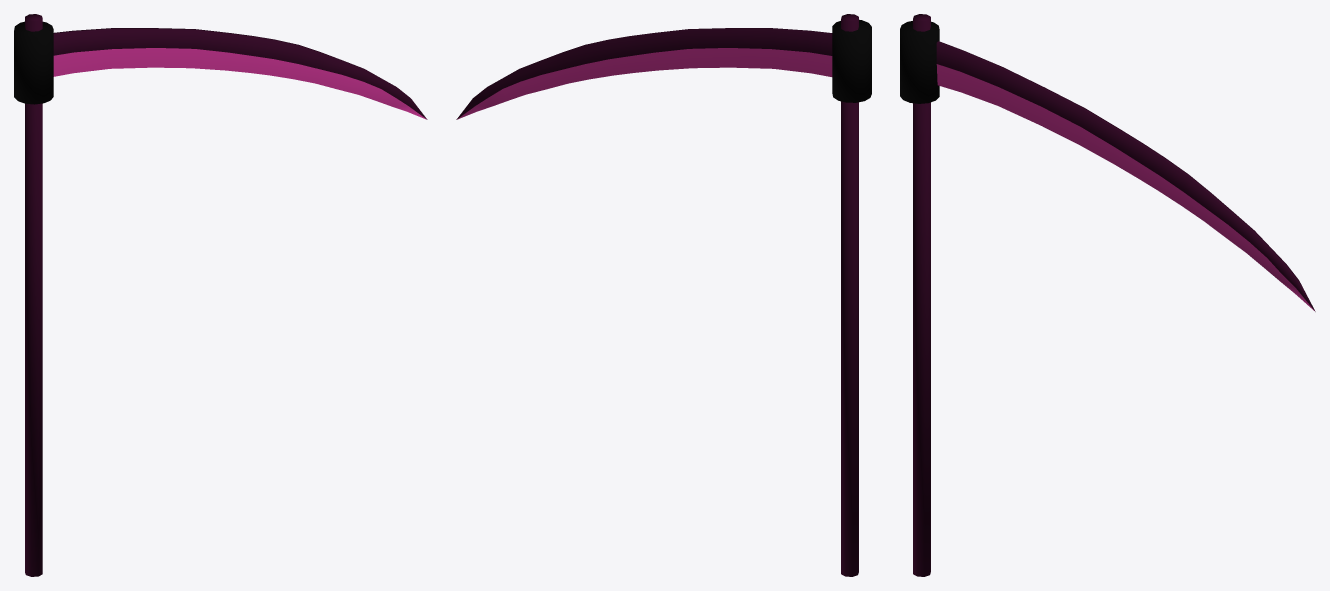
File: kamaWeapon.fbx
3 views of the same model, side by side, from view 1: azimuth 30°, elevation 25°; view 2: azimuth 150°, elevation 25°; view 3: azimuth 330°, elevation 25° (orthographic).
Parts seen in each view (by area): view 1: 刃, obj1, obj2; view 2: 刃, obj1, obj2; view 3: 刃, obj1, obj2.
Boxes of the visible parts, box(x1,y1,x2,y2) form: 刃: box(53, 28, 427, 119); obj1: box(25, 14, 42, 576); obj2: box(14, 21, 53, 104); 刃: box(456, 28, 832, 119); obj1: box(841, 14, 858, 576); obj2: box(832, 19, 871, 102); 刃: box(936, 41, 1315, 311); obj1: box(913, 14, 930, 576); obj2: box(900, 21, 939, 103).
Bounding box in the file's own units: 634 × 817 × 52.43.
